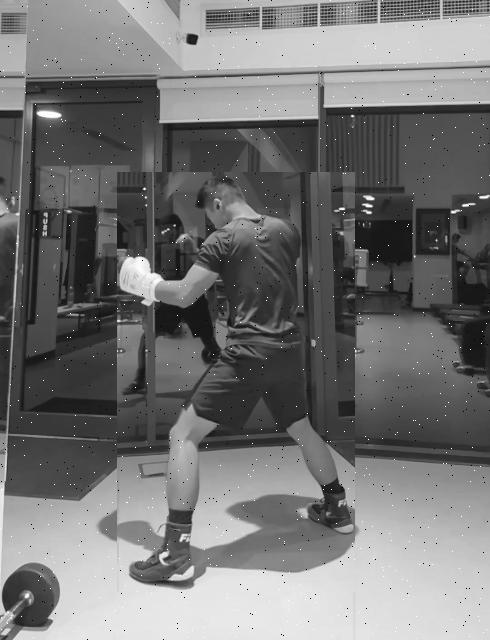punch: (117, 172, 355, 592)
